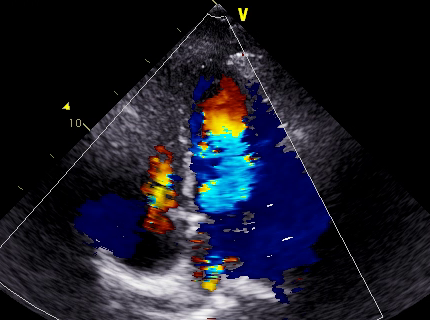MR: (198, 182, 270, 242)
